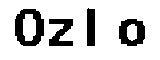0: (11, 6, 47, 53)
l: (83, 4, 101, 49)
o: (114, 17, 146, 50)
z: (47, 17, 77, 49)
